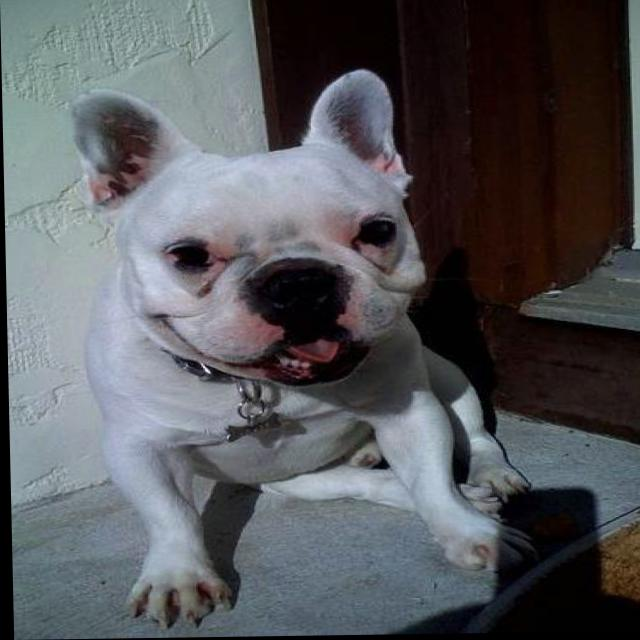buldog: (109, 133, 444, 396)
